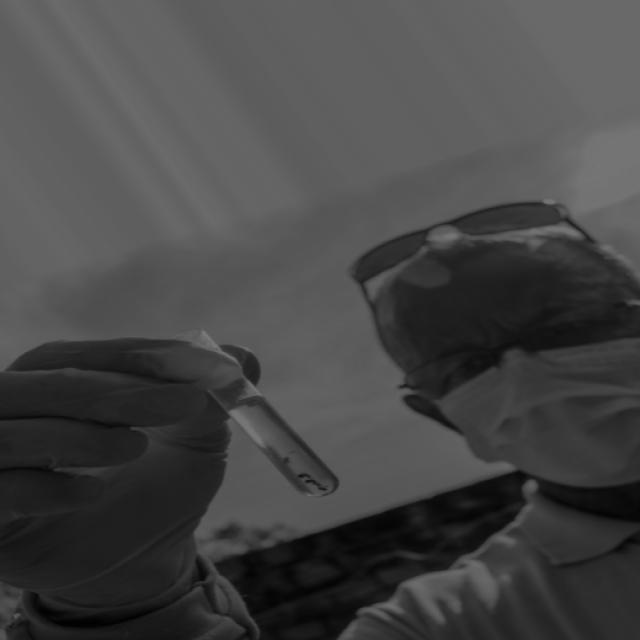larvas: (298, 472, 310, 478), (305, 480, 318, 485), (318, 487, 329, 491)
